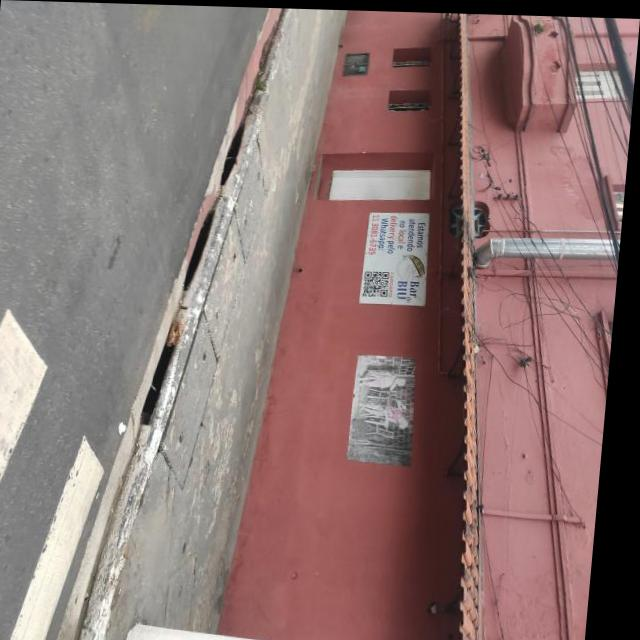qrcode: (368, 270, 394, 296)
